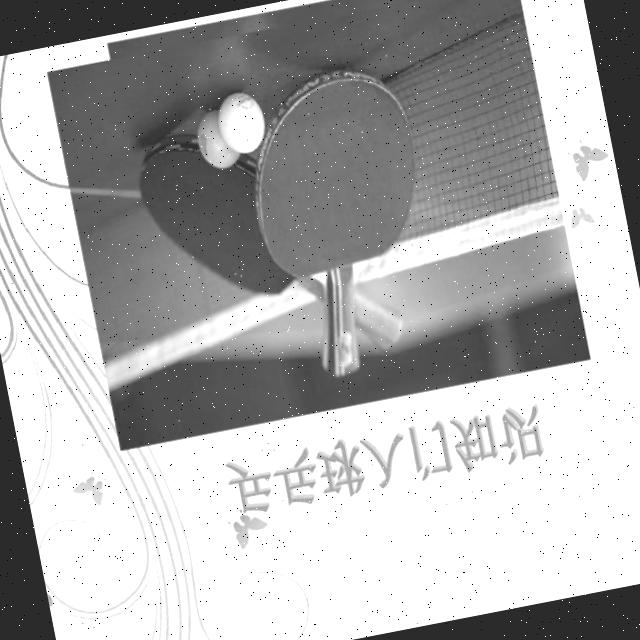ping-pong-ball: (210, 86, 272, 160), (189, 105, 248, 179)
